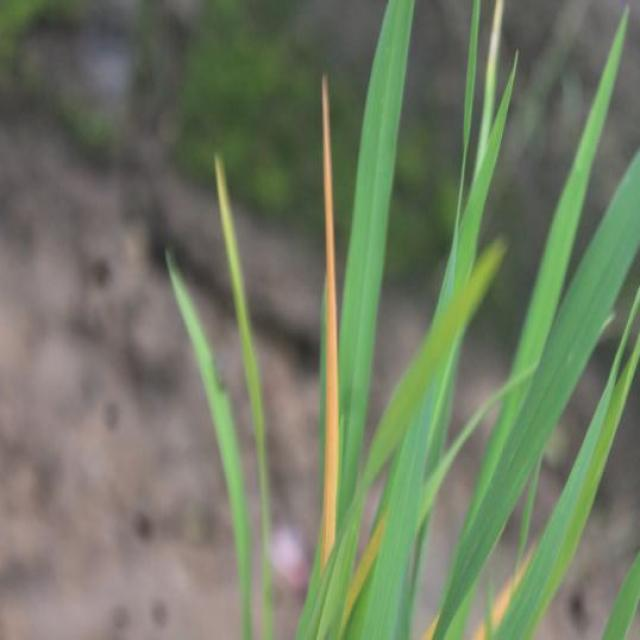Tungro: (306, 57, 358, 568)
